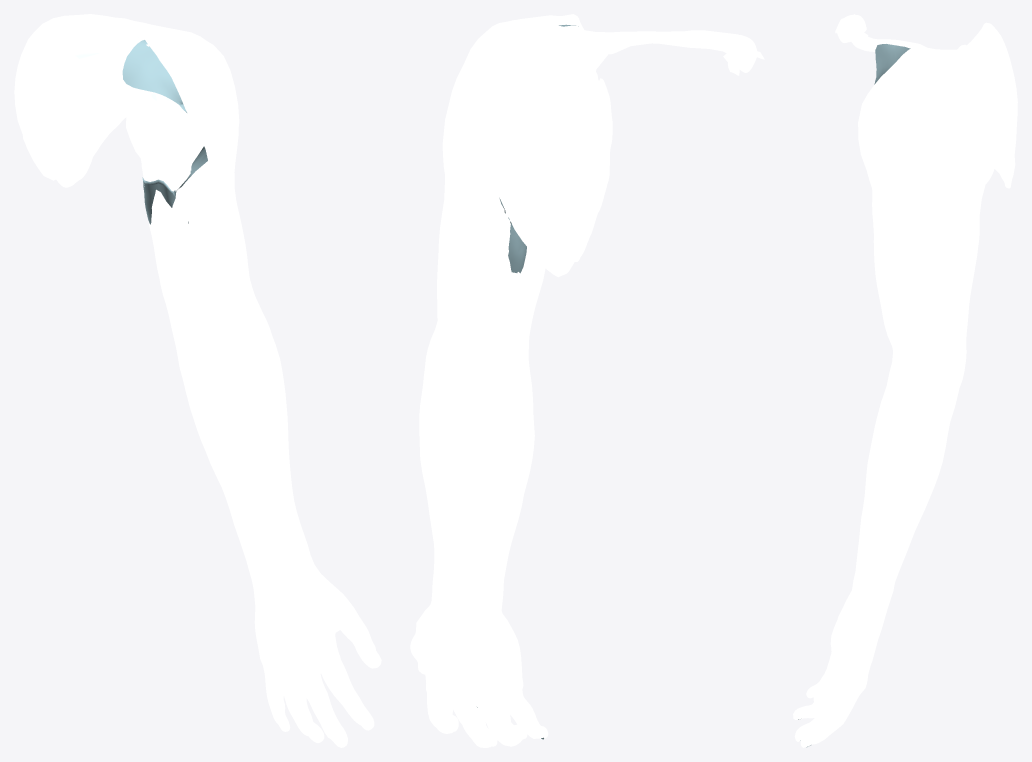
Rendered from left-upper-limb.glb.
3 renders of one model, left to right at view 1: azimuth 30°, elevation 25°; view 2: azimuth 150°, elevation 25°; view 3: azimuth 270°, elevation 25°, orthographic. The views are drawn at different scales.
Parts seen in each view (by area): view 1: Anterior region of forearm.l, Anterior region of arm.l, Deltoid region.l, Palmar surfaces of digits of hand.l, Scapular region.l, Palm.l, Subscapularis muscle.l, Anterior region of elbow.l, Scapula.l, Anterior region of wrist.l, Deltoid fascia.l, Long head of triceps brachii.l (+8 smaller); view 2: Scapular region.l, Posterior region of forearm.l, Posterior region of arm.l, Deltoid region.l, Dorsum of hand.l, Posterior region of elbow.l, Dorsal surfaces of digits of hand.l, Clavicle.l, Posterior region of wrist.l, Scapula.l, Medial border of forearm.l, Anterior region of forearm.l (+2 smaller); view 3: Deltoid region.l, Posterior region of arm.l, Posterior region of forearm.l, Anterior region of arm.l, Anterior region of forearm.l, Scapular region.l, Posterior region of elbow.l, Dorsal surfaces of digits of hand.l, Lateral border of forearm.l, Anterior region of elbow.l, Palmar surfaces of digits of hand.l, Dorsum of hand.l (+6 smaller).
Part boxes in pixels (<box>): Anterior region of forearm.l: <box>184,339,314,583</box>; Anterior region of arm.l: <box>164,161,252,317</box>; Deltoid region.l: <box>114,17,239,176</box>; Palmar surfaces of digits of hand.l: <box>262,611,379,746</box>; Scapular region.l: <box>14,14,133,180</box>; Palm.l: <box>255,587,351,666</box>; Subscapularis muscle.l: <box>42,73,156,166</box>; Anterior region of elbow.l: <box>176,288,273,369</box>; Scapula.l: <box>35,46,131,187</box>; Anterior region of wrist.l: <box>256,565,335,609</box>; Deltoid fascia.l: <box>122,40,186,112</box>; Long head of triceps brachii.l: <box>130,102,170,186</box>; Scapular region.l: <box>469,42,601,277</box>; Posterior region of forearm.l: <box>419,376,523,627</box>; Posterior region of arm.l: <box>437,121,537,362</box>; Deltoid region.l: <box>442,14,583,158</box>; Dorsum of hand.l: <box>416,615,522,707</box>; Posterior region of elbow.l: <box>424,321,525,415</box>; Dorsal surfaces of digits of hand.l: <box>410,629,548,747</box>; Clavicle.l: <box>558,24,740,57</box>; Posterior region of wrist.l: <box>421,603,509,650</box>; Scapula.l: <box>573,51,612,261</box>; Medial border of forearm.l: <box>496,405,529,615</box>; Anterior region of forearm.l: <box>499,399,534,620</box>; Deltoid region.l: <box>858,45,985,225</box>; Posterior region of arm.l: <box>922,136,994,346</box>; Posterior region of forearm.l: <box>866,389,959,606</box>; Anterior region of arm.l: <box>872,189,929,346</box>; Anterior region of forearm.l: <box>851,391,907,605</box>; Scapular region.l: <box>965,22,1017,188</box>; Posterior region of elbow.l: <box>917,335,966,400</box>; Dorsal surfaces of digits of hand.l: <box>793,649,864,747</box>; Lateral border of forearm.l: <box>868,400,917,597</box>; Anterior region of elbow.l: <box>885,343,922,400</box>; Palmar surfaces of digits of hand.l: <box>793,649,849,745</box>; Dorsum of hand.l: <box>834,625,882,688</box>.
Size of the model in its own units: 0.3401 by 0.7376 by 0.2359.
